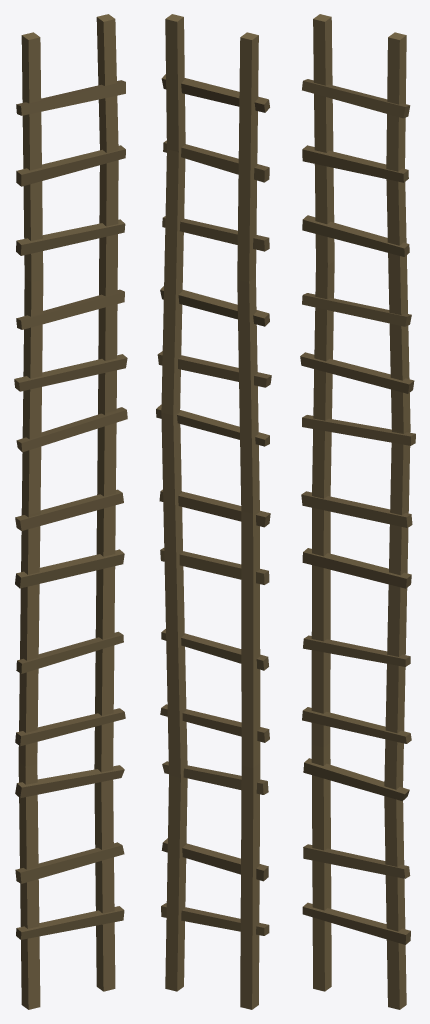
Rendered from Stairs.fbx.
3 views of the same model, side by side, from view 1: azimuth 30°, elevation 25°; view 2: azimuth 150°, elevation 25°; view 3: azimuth 330°, elevation 25° (orthographic).
Parts seen in each view (by area): view 1: Stairs; view 2: Stairs; view 3: Stairs.
Part boxes in pixels (<box>): Stairs: <box>14,14,127,1009</box>; Stairs: <box>156,14,271,1009</box>; Stairs: <box>300,14,415,1009</box>.
Size of the model in its own units: 62.81 by 531 by 11.57.
